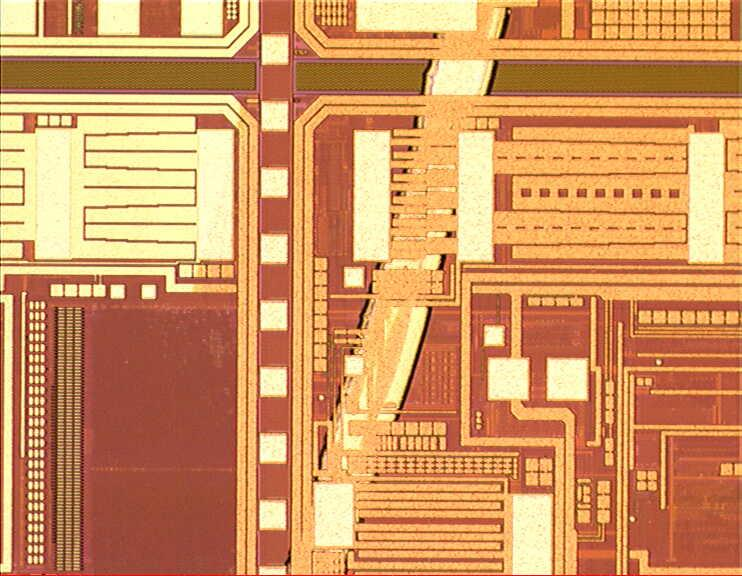COATING BAD: (279, 1, 515, 576)
